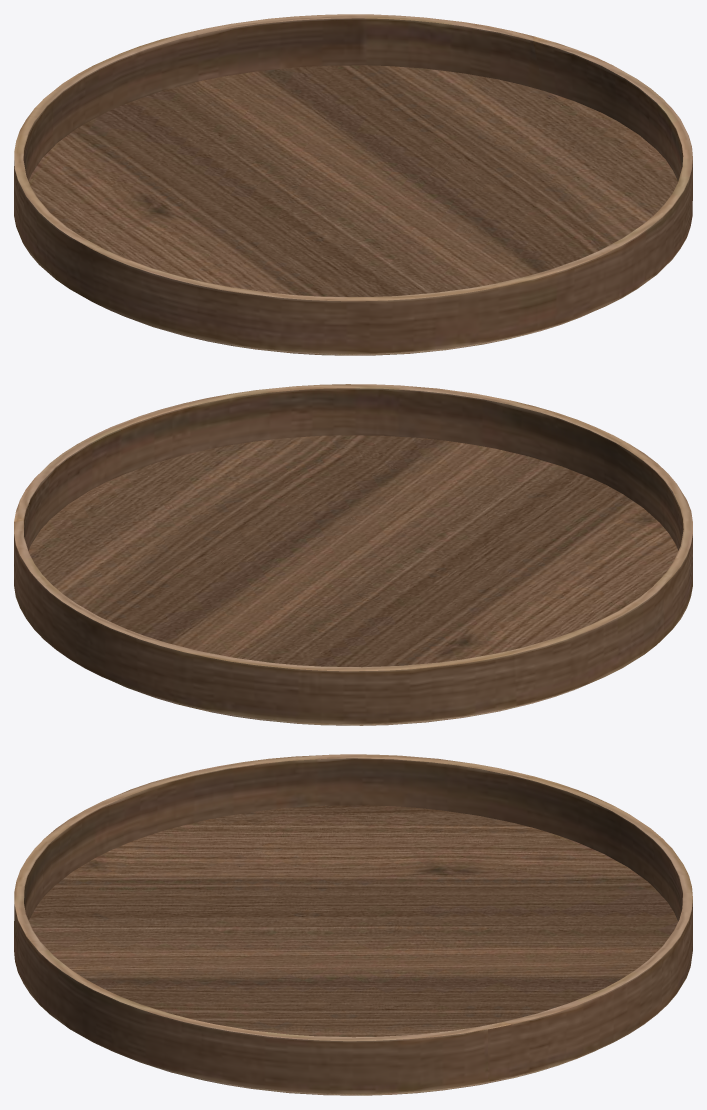
The model's file is LB-TRAY-01.glb.
The picture shows the model from 3 angles, top to bottom: view 1: azimuth 30°, elevation 25°; view 2: azimuth 150°, elevation 25°; view 3: azimuth 270°, elevation 25°; orthographic projection.
Parts seen in each view (by area): view 1: ASY_ART_50504734_S01_NV01; view 2: ASY_ART_50504734_S01_NV01; view 3: ASY_ART_50504734_S01_NV01.
Boxes of the visible parts, bbox=[...] form: ASY_ART_50504734_S01_NV01: bbox=[14, 14, 692, 355]; ASY_ART_50504734_S01_NV01: bbox=[14, 384, 692, 725]; ASY_ART_50504734_S01_NV01: bbox=[14, 754, 692, 1095].
Size of the model in its own units: 0.42 by 0.04 by 0.42.
Materials: 1 (1 with a texture image).
